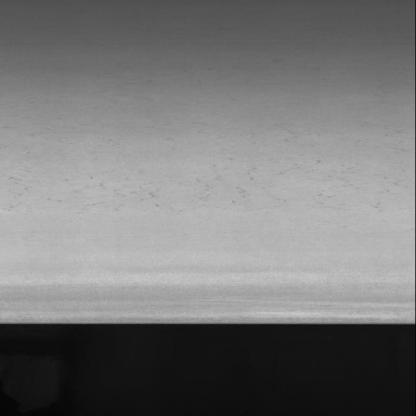silk_spot: (0, 138, 393, 227)
